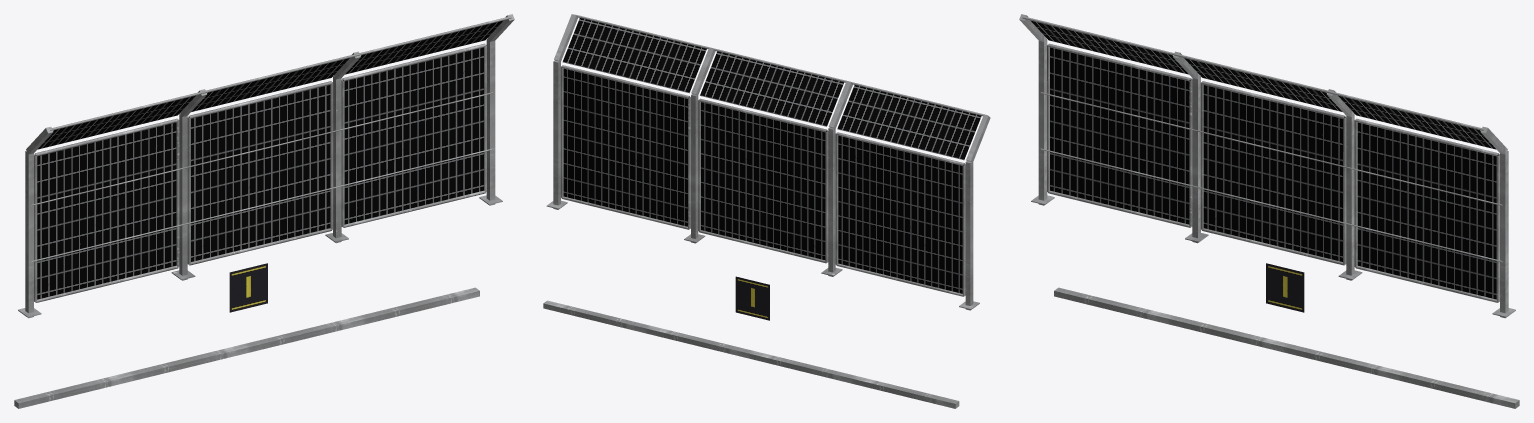
File: pit_wall.glb
The picture shows the model from 3 angles, left to right: view 1: azimuth 30°, elevation 25°; view 2: azimuth 150°, elevation 25°; view 3: azimuth 330°, elevation 25°; orthographic projection. The views are drawn at different scales.
Visible parts, largest first — view 1: pit_wall; view 2: pit_wall; view 3: pit_wall.
Boxes of the visible parts, bbox=[...] form: pit_wall: bbox=[14, 14, 514, 408]; pit_wall: bbox=[543, 14, 990, 408]; pit_wall: bbox=[1019, 14, 1519, 408].
Bounding box in the file's own units: 6.18 × 3.77 × 0.8247.
3 materials, 3 textured.
